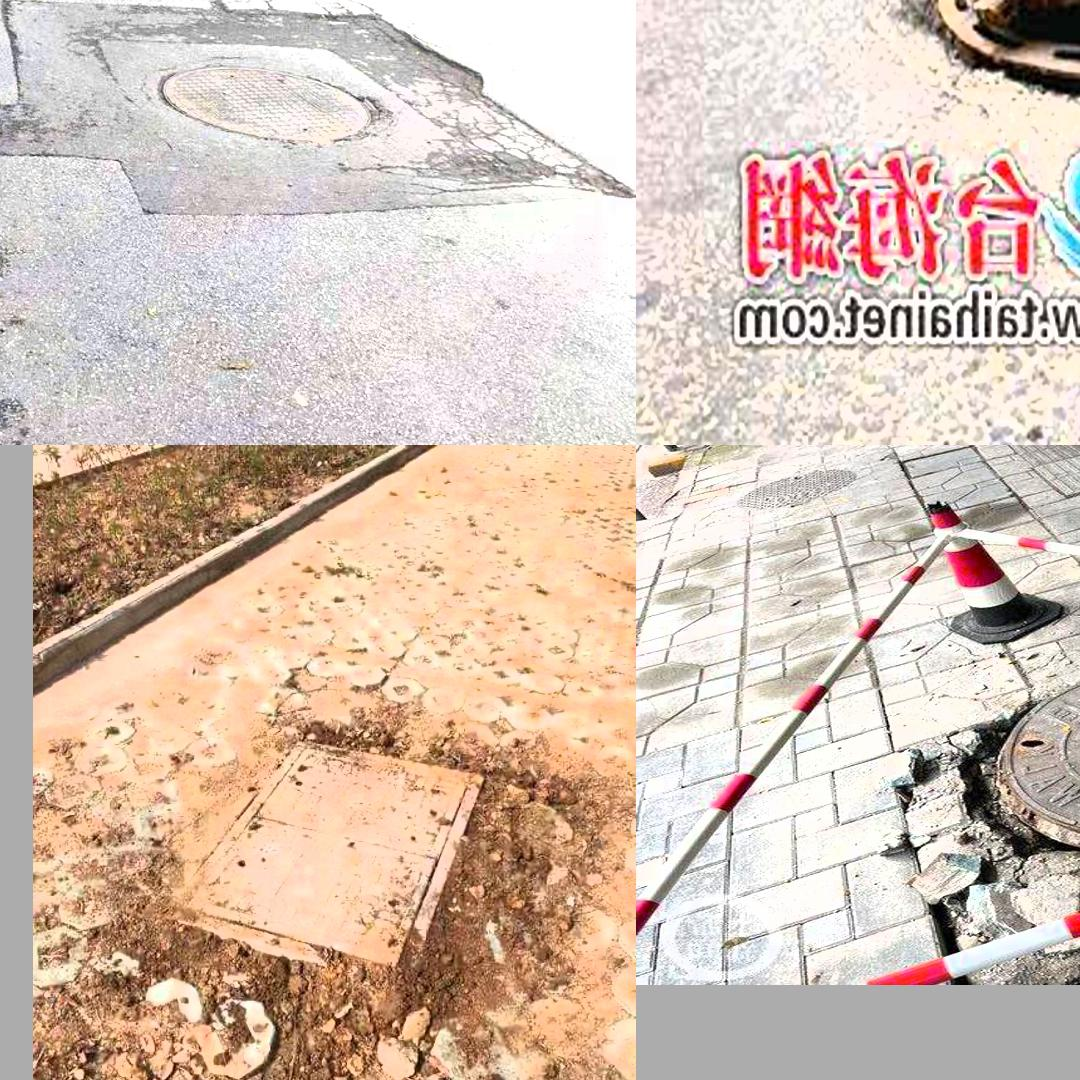circle: (143, 734, 511, 1010), (19, 23, 534, 209), (910, 631, 1080, 966), (825, 0, 1080, 154)
